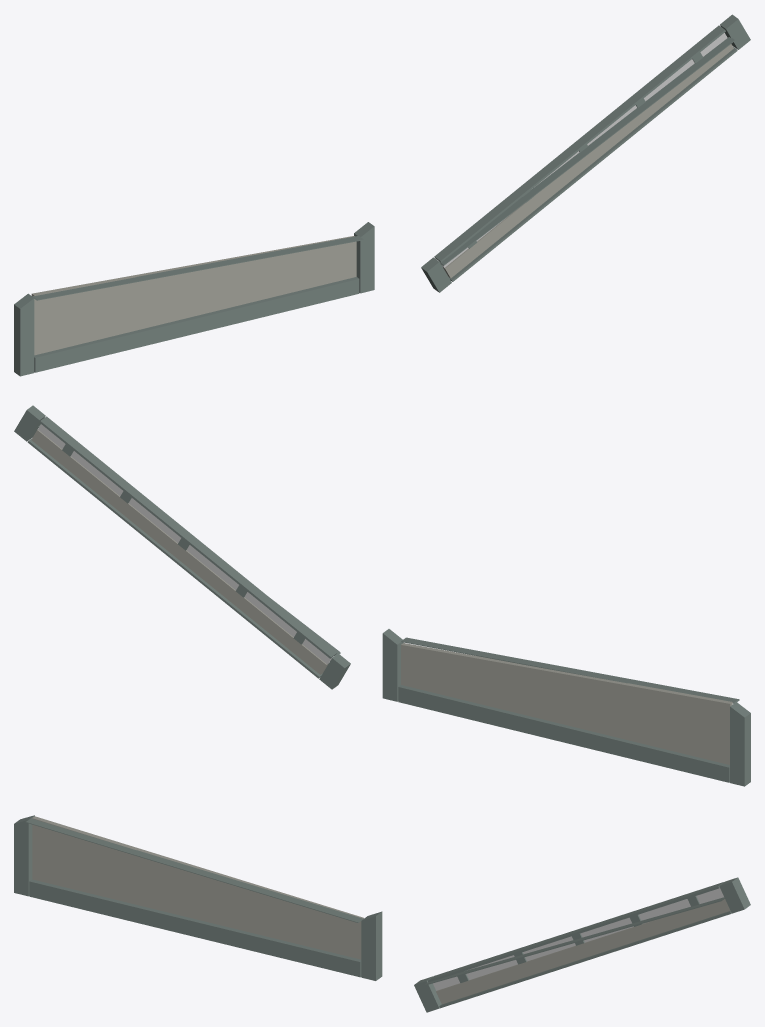
Rendered from SM_PuertaVehiculos_v0_TuboChapa_e2_MuyDanado_LOD1.fbx.
3 views of the same model, one above another, from view 1: azimuth 30°, elevation 25°; view 2: azimuth 150°, elevation 25°; view 3: azimuth 330°, elevation 25° (orthographic). The views are drawn at different scales.
Parts seen in each view (by area): view 1: Hoja_O, Hoja_E; view 2: Hoja_O, Hoja_E; view 3: Hoja_O, Hoja_E.
Part boxes in pixels (x1=…): Hoja_O: x1=14, y1=222, x2=374, y2=376; Hoja_E: x1=421, y1=14, x2=750, y2=292; Hoja_O: x1=382, y1=629, x2=750, y2=786; Hoja_E: x1=14, y1=405, x2=350, y2=689; Hoja_O: x1=14, y1=815, x2=382, y2=980; Hoja_E: x1=414, y1=877, x2=750, y2=1012.
Size of what is drawn, in the model's own units: 8.12 by 2.16 by 0.33.
